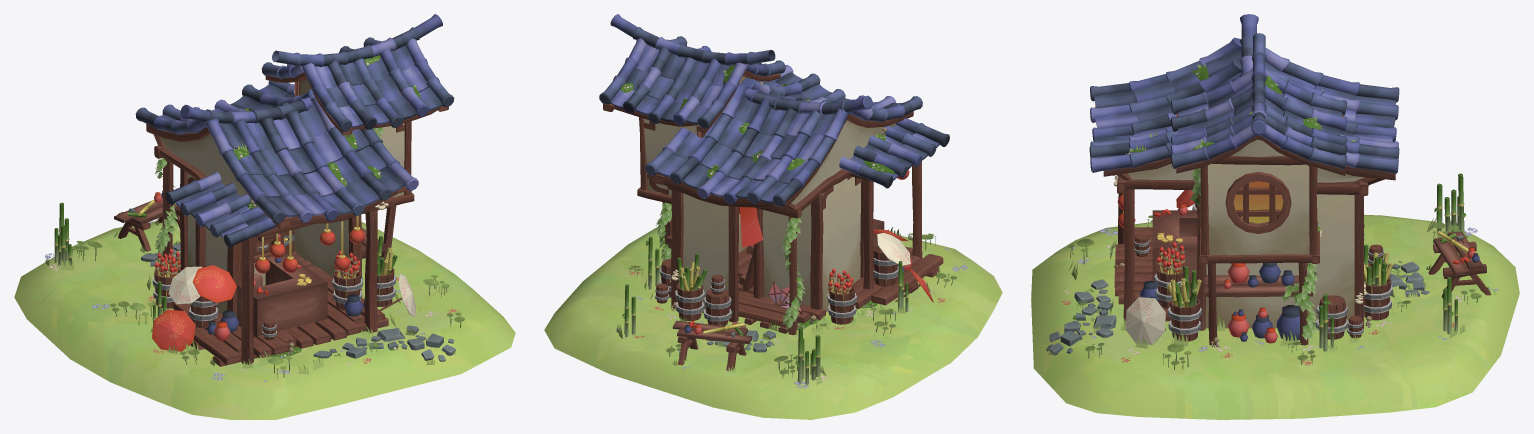
The picture shows the model from 3 angles, left to right: view 1: azimuth 30°, elevation 25°; view 2: azimuth 150°, elevation 25°; view 3: azimuth 270°, elevation 25°; orthographic projection. The views are drawn at different scales.
Parts seen in each view (by area): view 1: Grass, Roof tiles003, Roof tiles004, Counter, Roof tiles008, Roof tiles002, Roof tiles007, Wall010, Wall012, Wood004, Wood002, Roof tiles006 (+19 smaller); view 2: Grass, Roof tiles002, Roof tiles005, Roof tiles008, Wall002, Wall, Wall001, Roof tiles003, Roof tiles007, Wall012, Roof tiles006, Wood022 (+22 smaller); view 3: Grass, Roof tiles003, Wall005, Roof tiles002, Wall006, Roof tiles004, Roof tiles005, Counter, Cylinder028, UmbrellaWhite002, Roof tiles007, Wood002 (+22 smaller).
Part boxes in pixels (box(x1,y1,x2,y2)): Grass: box(14, 221, 515, 419); Roof tiles003: box(204, 97, 418, 223); Roof tiles004: box(301, 38, 454, 131); Counter: box(237, 253, 327, 337); Roof tiles008: box(165, 172, 276, 247); Roof tiles002: box(135, 80, 314, 134); Roof tiles007: box(272, 14, 442, 67); Wall010: box(294, 219, 349, 277); Wall012: box(160, 134, 257, 205); Wood004: box(241, 237, 254, 364); Wood002: box(364, 210, 377, 332); Roof tiles006: box(180, 97, 313, 123); Grass: box(544, 227, 1002, 419); Roof tiles002: box(645, 83, 850, 206); Roof tiles005: box(599, 38, 748, 128); Roof tiles008: box(839, 118, 949, 188); Wall002: box(822, 177, 860, 311); Wall: box(683, 193, 728, 312); Wall001: box(762, 204, 811, 306); Roof tiles003: box(741, 64, 922, 122); Roof tiles007: box(610, 14, 775, 65); Wall012: box(791, 120, 895, 204); Roof tiles006: box(744, 88, 872, 115); Wood022: box(810, 191, 823, 320); Grass: box(1031, 214, 1519, 419); Roof tiles003: box(1089, 37, 1241, 172); Wall005: box(1205, 194, 1354, 328); Roof tiles002: box(1265, 48, 1399, 173); Wall006: box(1208, 163, 1309, 255); Roof tiles004: box(1171, 68, 1256, 168); Roof tiles005: box(1260, 68, 1347, 169); Counter: box(1152, 210, 1197, 288); Cylinder028: box(1225, 172, 1291, 233); UmbrellaWhite002: box(1125, 297, 1165, 344); Roof tiles007: box(1251, 33, 1266, 135); Wood002: box(1123, 189, 1134, 320).
Bounding box in the file's own units: 298 × 204 × 309.
Materials: 3 (3 with a texture image).
